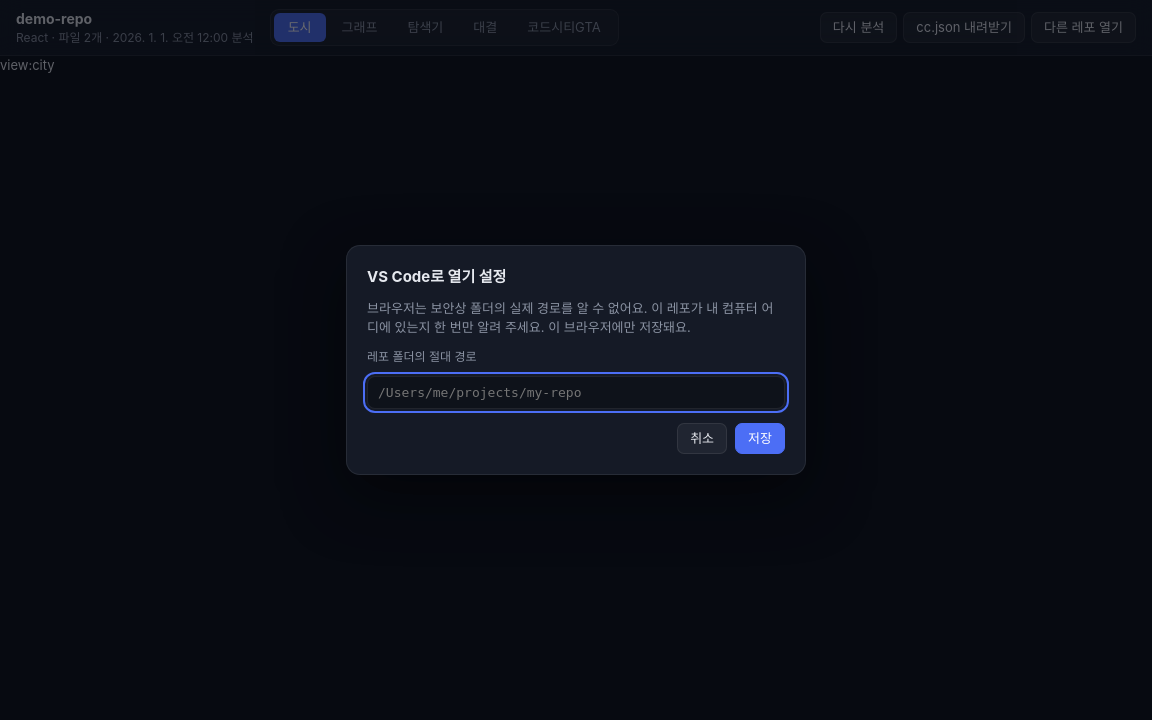
Scenario: ViewerShell › vscodeHref is null until the repo path is set via the dialog
Expected: the text "view:city" is shown, [0,57,55,73]
Expected: the dialog shows "브라우저는 보안상 폴더의 실제 경로를 알 수 없어요", [367,300,773,335]
Type "/Users/me/demo-repo/" into the field labelled "레포 폴더의 절대 경로". click: (576, 392)
box: [367,376,785,408]
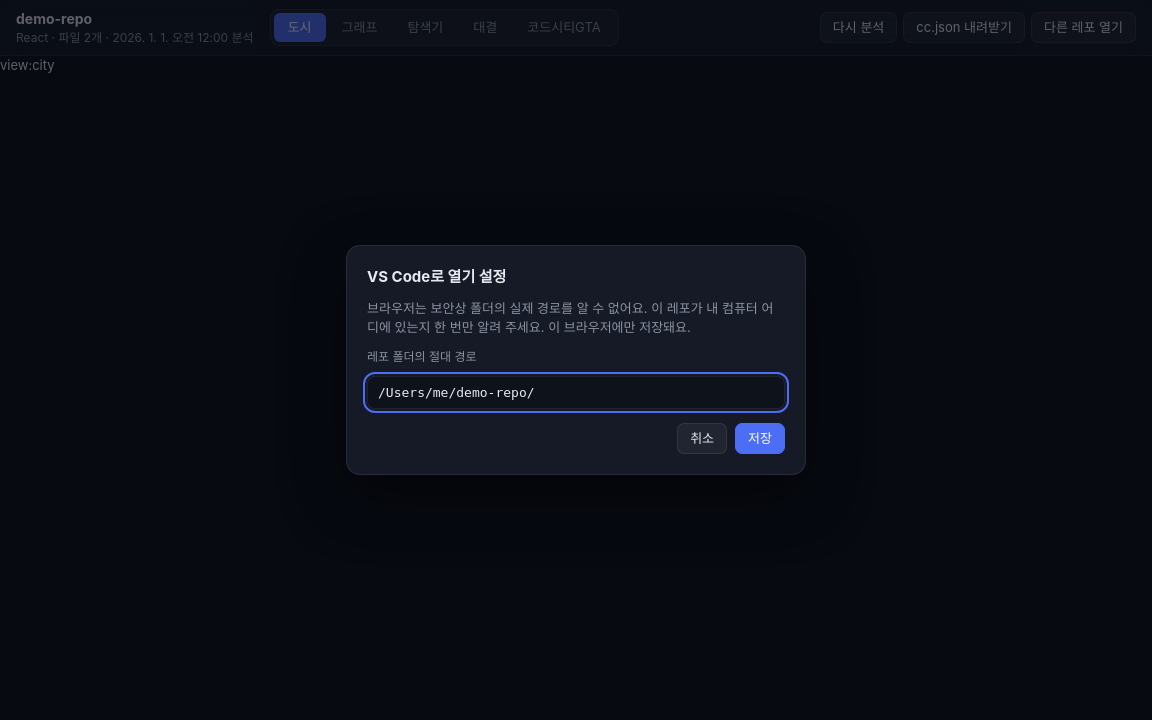
Click the button "저장". click: (760, 438)
box: [735,422,785,454]
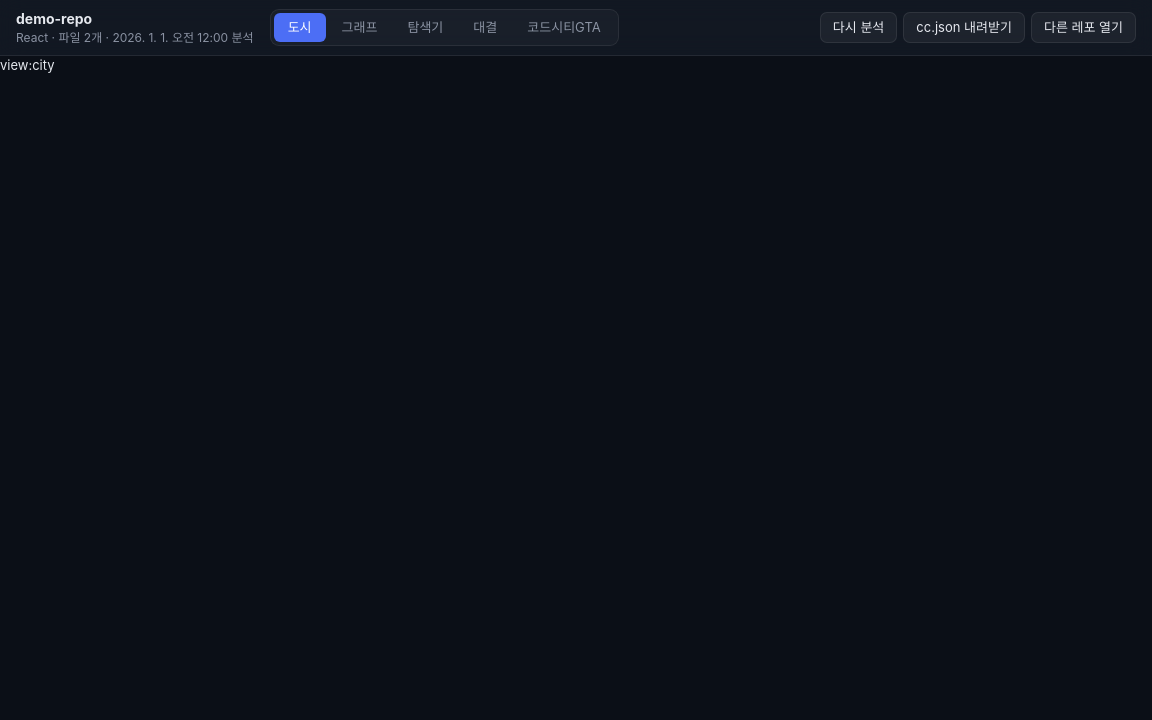
Expected: the dialog is gone
